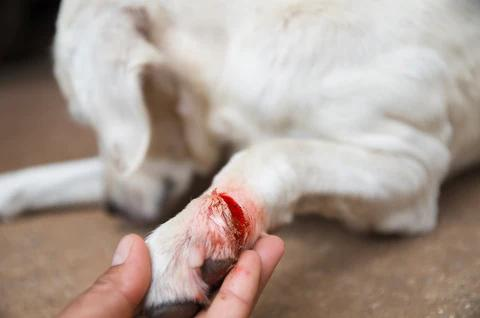bleeding: (198, 185, 281, 262)
